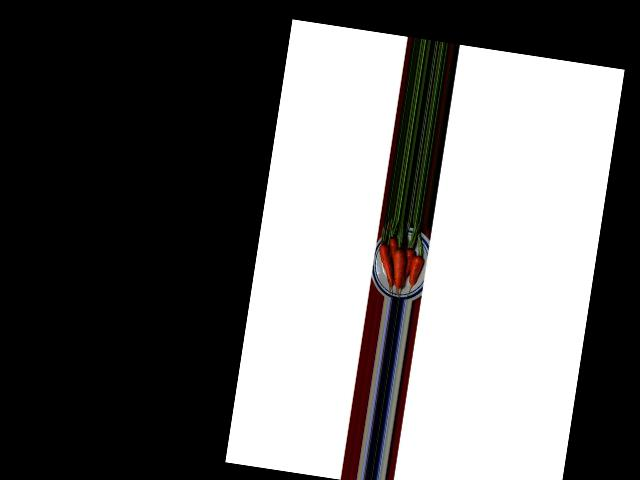carrot: (406, 251, 426, 287)
